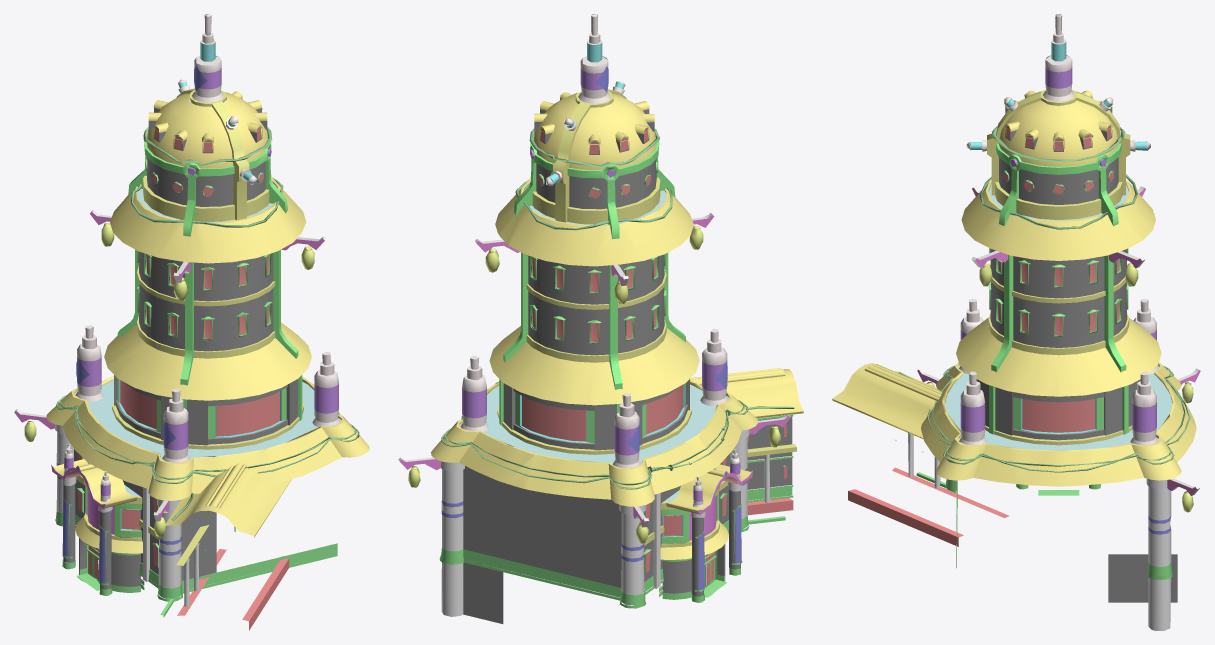
File: SM_ENV_LKNVLD_VRArena_Main_Lod3.gltf
3 views of the same model, side by side, from view 1: azimuth 30°, elevation 25°; view 2: azimuth 150°, elevation 25°; view 3: azimuth 270°, elevation 25° (orthographic). The views are drawn at different scales.
Visible parts, largest first — view 1: SM_ENV_LKNVLD_VRArena_Main_Lod3; view 2: SM_ENV_LKNVLD_VRArena_Main_Lod3; view 3: SM_ENV_LKNVLD_VRArena_Main_Lod3.
Part boxes in pixels (bbox=[...]): SM_ENV_LKNVLD_VRArena_Main_Lod3: bbox=[14, 14, 369, 630]; SM_ENV_LKNVLD_VRArena_Main_Lod3: bbox=[398, 14, 803, 623]; SM_ENV_LKNVLD_VRArena_Main_Lod3: bbox=[832, 14, 1200, 630].
Size of the model in its own units: 30.53 by 65.9 by 38.75.
